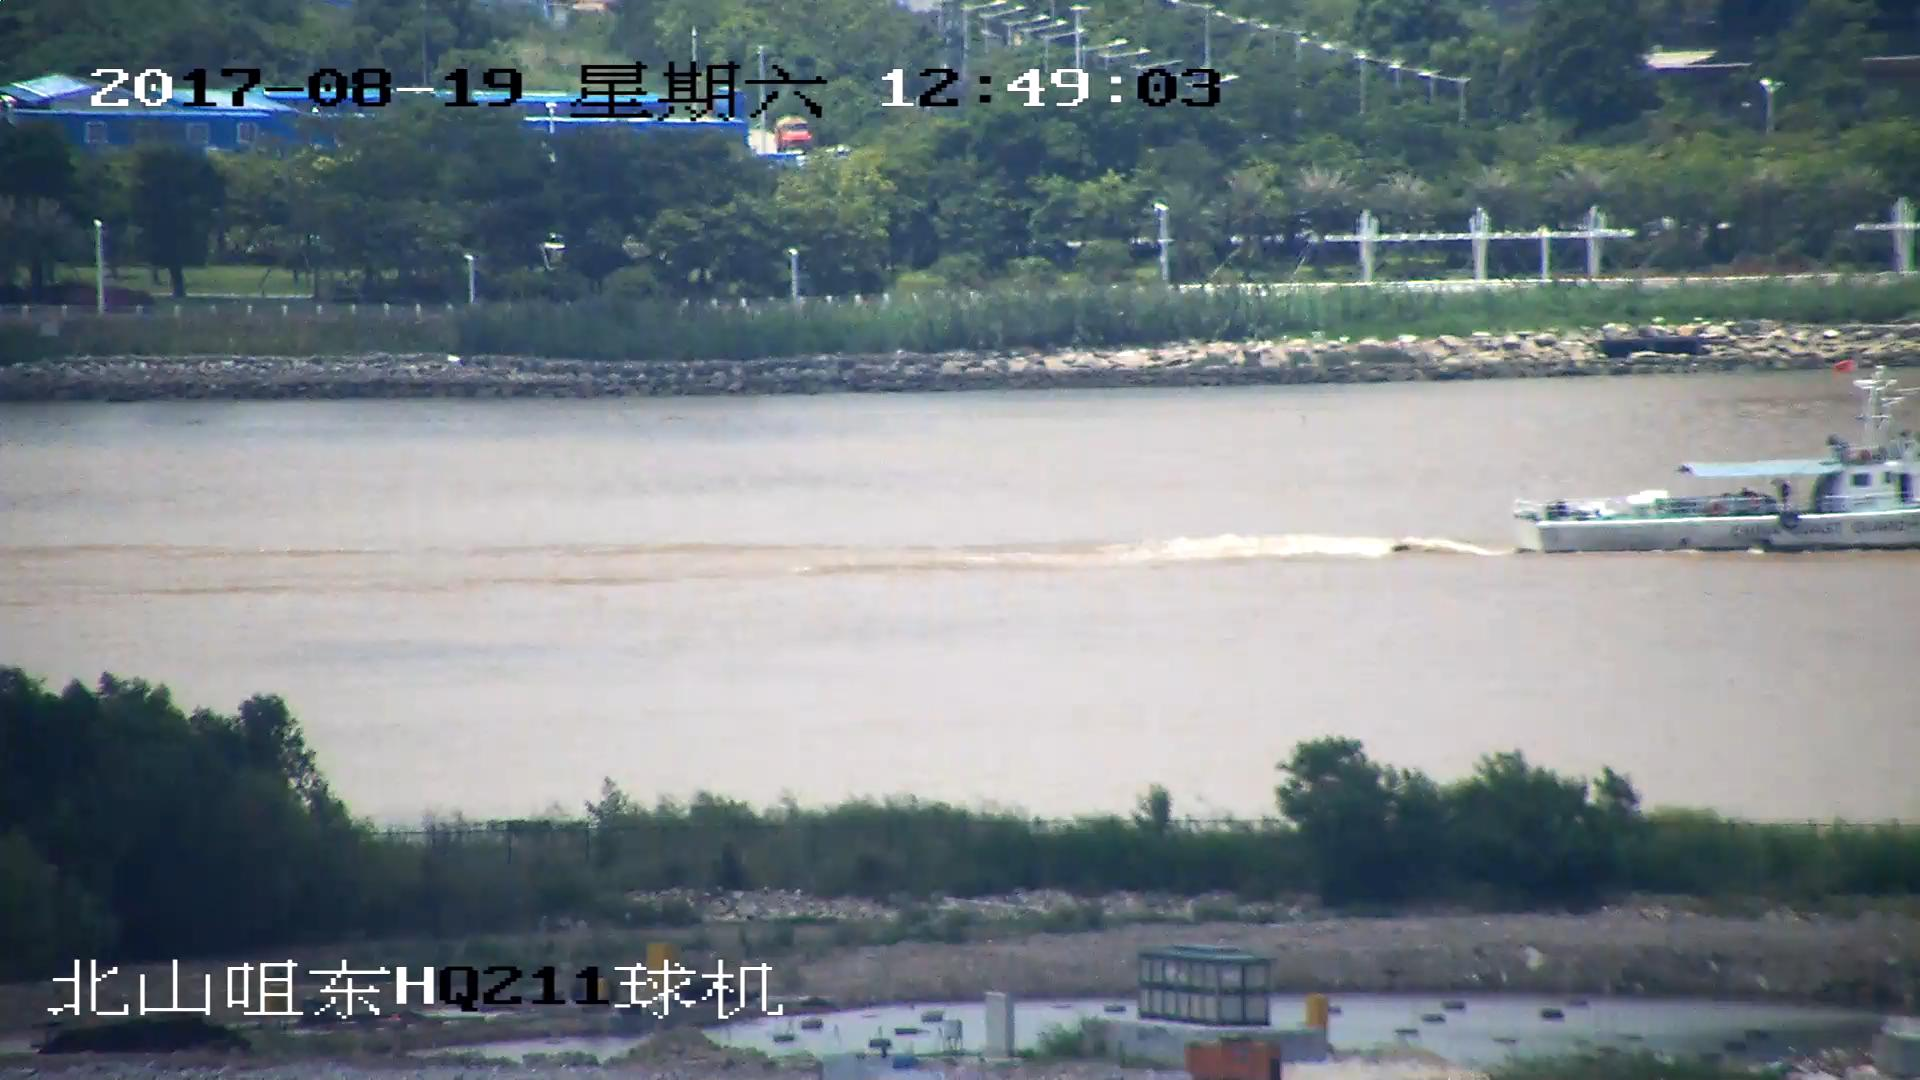passenger ship: (1520, 374, 1920, 554)
